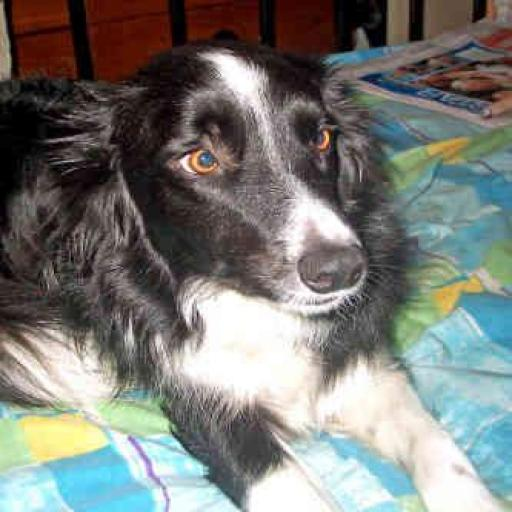dog_face: (58, 55, 378, 315)
